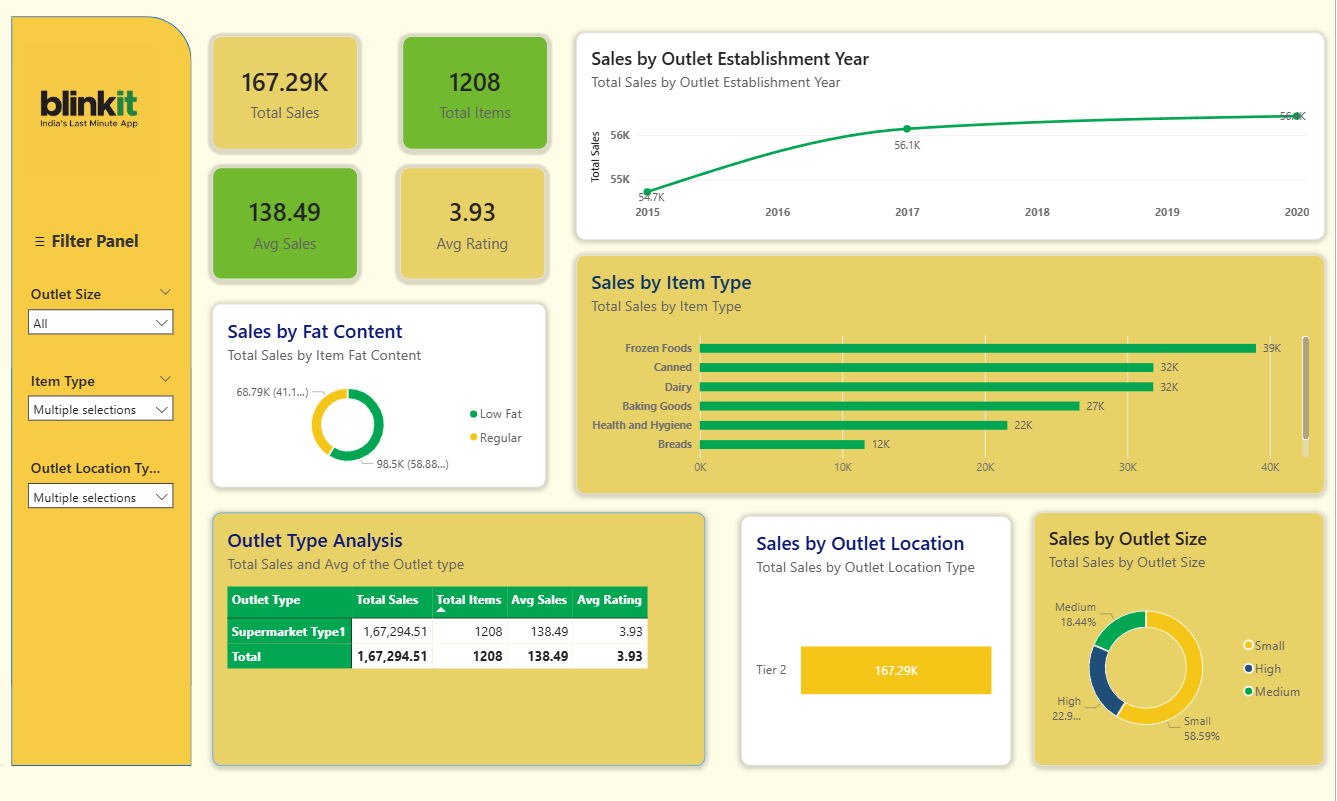

The dashboard page shown, as its layout file describes it:
{"tool":"powerbi","page":{"name":"Page 1","canvas":[1500,900],"ordinal":0},"visuals":[{"type":"card","fields":{"Values":["Key Measures.Total Sales"]},"box":[239,41.2,163.2,126.9],"z":0},{"type":"card","fields":{"Values":["Key Measures.Avg Sales"]},"box":[239,187.9,163.2,125.3],"z":1000},{"type":"card","fields":{"Values":["Key Measures.Avg Rating"]},"box":[450,187.9,163.2,125.3],"z":2000},{"type":"card","fields":{"Values":["Key Measures.Total Items"]},"box":[451.6,41.2,163.2,126.9],"z":3000},{"type":"donutChart","title":" Sales by Fat Content","fields":{"Category":["BlinkIT-Grocery-Data.Item Fat Content"],"Y":["Key Measures.Total Sales"]},"box":[239,341.2,374.2,206],"z":4000},{"type":"clusteredBarChart","title":"Sales by Item Type","fields":{"Category":["BlinkIT-Grocery-Data.Item Type"],"Y":["Key Measures.Total Sales"]},"box":[647.8,286.8,840.7,268.7],"z":5000},{"type":"donutChart","title":"Sales by Outlet Size","fields":{"Category":["BlinkIT-Grocery-Data.Outlet Size"],"Y":["Key Measures.Total Sales"]},"box":[1162.1,575.3,326.4,285.2],"z":6000},{"type":"lineChart","title":"Sales by Outlet Establishment Year","fields":{"Category":["BlinkIT-Grocery-Data.Outlet Establishment Year"],"Y":["Key Measures.Total Sales"]},"box":[647.8,36.3,840.7,232.4],"z":7000},{"type":"pivotTable","title":"Outlet Type Analysis","fields":{"Rows":["BlinkIT-Grocery-Data.Outlet Type"],"Values":["Key Measures.Total Sales","Key Measures.Total Items","Key Measures.Avg Sales","Key Measures.Avg Rating"]},"box":[239,575.3,553.8,285.2],"z":8000},{"type":"funnel","title":" Sales by Outlet Location","fields":{"Category":["BlinkIT-Grocery-Data.Outlet Location Type"],"Y":["Key Measures.Total Sales"]},"box":[832.4,580.2,303.3,280.2],"z":12000},{"type":"shape","box":[13.2,18.1,202.7,842.3],"z":12750},{"type":"slicer","fields":{"Values":["BlinkIT-Grocery-Data.Outlet Location Type"]},"box":[26.4,514.3,173.1,65.9],"z":12812},{"type":"slicer","fields":{"Values":["BlinkIT-Grocery-Data.Outlet Size"]},"box":[26.4,318.1,173.1,64.3],"z":12875},{"type":"slicer","fields":{"Values":["BlinkIT-Grocery-Data.Item Type"]},"box":[26.4,415.4,173.1,67.6],"z":13000},{"type":"textbox","box":[25.9,251.2,160.1,35.7],"z":15500},{"type":"image","box":[25.6,42,148.6,161.9],"z":16501}]}

Visuals, with their boxes in screenshot pixels (x1, y1, x2, y2), scaled from the page's 1500x900 canvas onto the 1337x801 screenshot:
card - Key Measures.Total Sales: [left=213, top=37, right=358, bottom=150]
card - Key Measures.Avg Sales: [left=213, top=167, right=358, bottom=279]
card - Key Measures.Avg Rating: [left=401, top=167, right=547, bottom=279]
card - Key Measures.Total Items: [left=403, top=37, right=548, bottom=150]
" Sales by Fat Content" donutChart: [left=213, top=304, right=547, bottom=487]
"Sales by Item Type" clusteredBarChart: [left=577, top=255, right=1327, bottom=494]
"Sales by Outlet Size" donutChart: [left=1036, top=512, right=1327, bottom=766]
"Sales by Outlet Establishment Year" lineChart: [left=577, top=32, right=1327, bottom=239]
"Outlet Type Analysis" pivotTable: [left=213, top=512, right=707, bottom=766]
" Sales by Outlet Location" funnel: [left=742, top=516, right=1012, bottom=766]
shape: [left=12, top=16, right=192, bottom=766]
slicer - BlinkIT-Grocery-Data.Outlet Location Type: [left=24, top=458, right=178, bottom=516]
slicer - BlinkIT-Grocery-Data.Outlet Size: [left=24, top=283, right=178, bottom=340]
slicer - BlinkIT-Grocery-Data.Item Type: [left=24, top=370, right=178, bottom=430]
textbox: [left=23, top=224, right=166, bottom=255]
image: [left=23, top=37, right=155, bottom=181]
